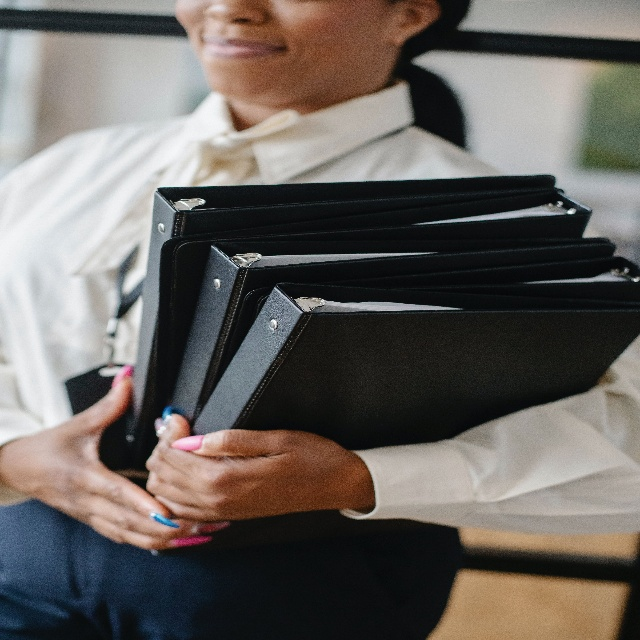Sin_guantes: (0, 365, 230, 549), (143, 425, 368, 523)
